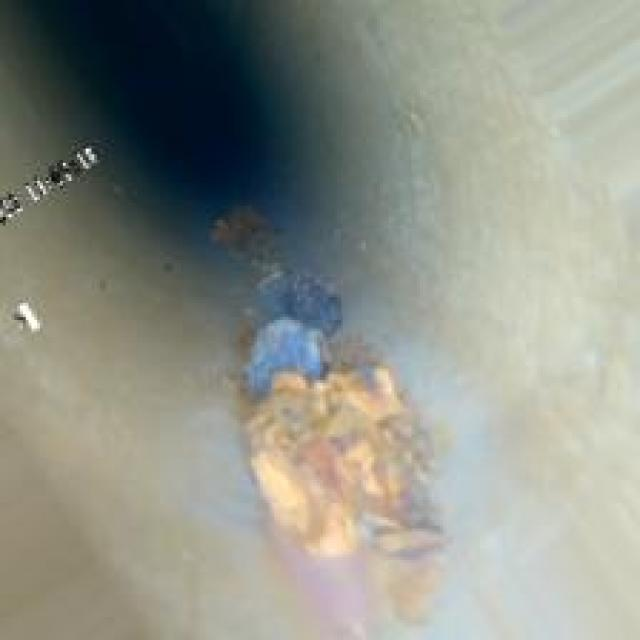stone: (229, 266, 457, 586)
